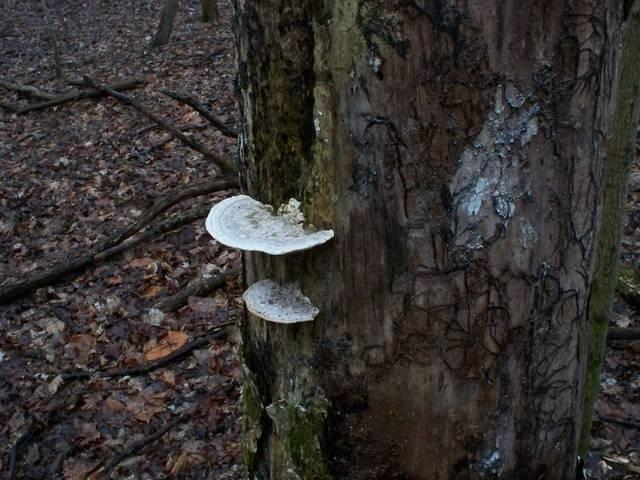poisonous_mushroom: (205, 181, 322, 347)
